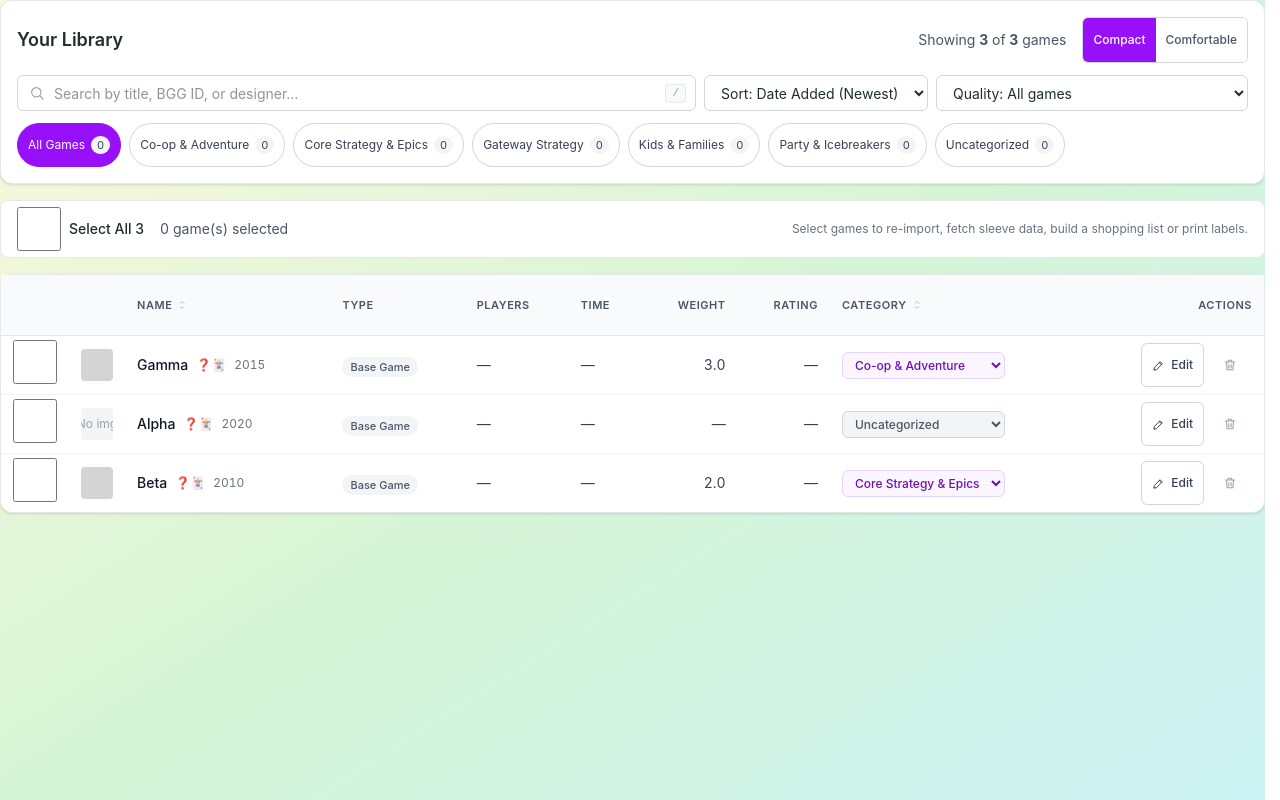
Scenario: ManageLibraryTab extras › select all / clear selection
Click the checkbox labelled "Select All 3" at (39, 229), box [17,207,61,251]
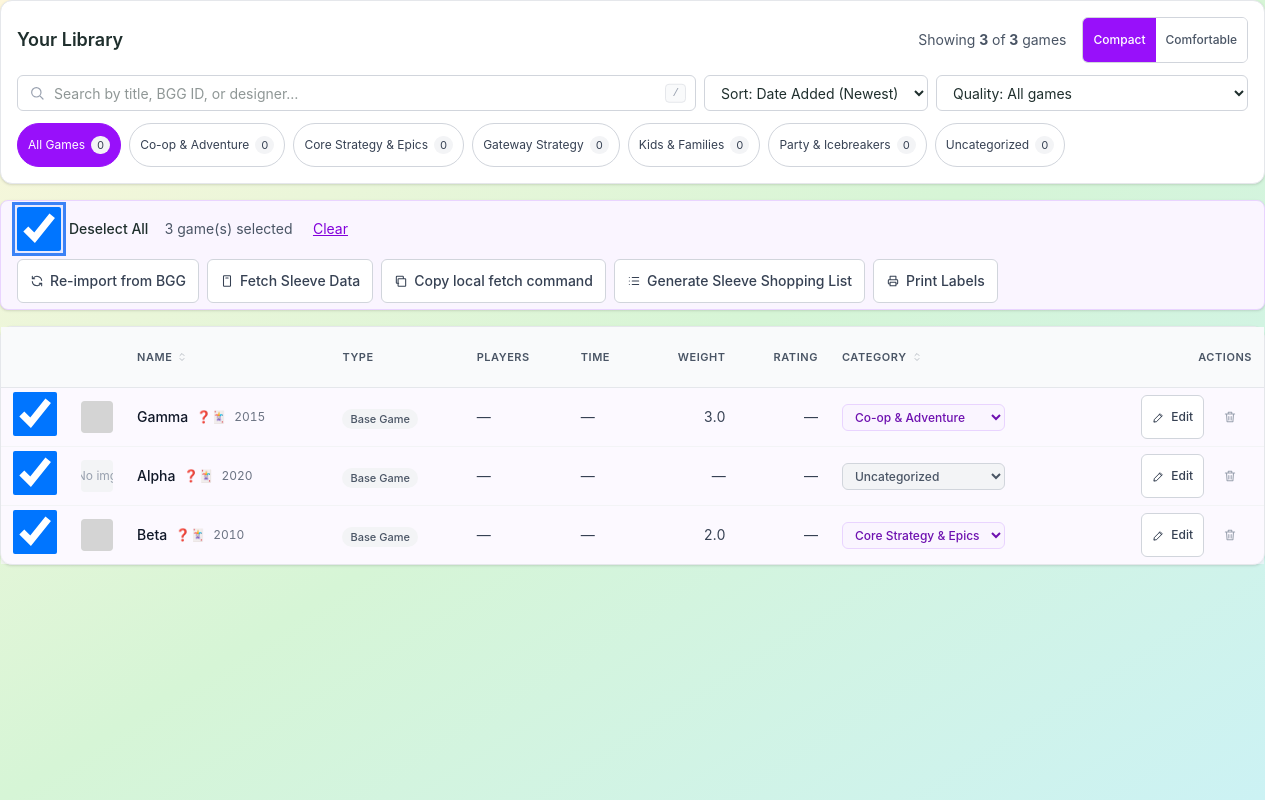
Expected: the text "3 game(s) selected" is shown, [164,219,292,239]
Click the button "Clear" at (330, 229), box [308,207,352,251]
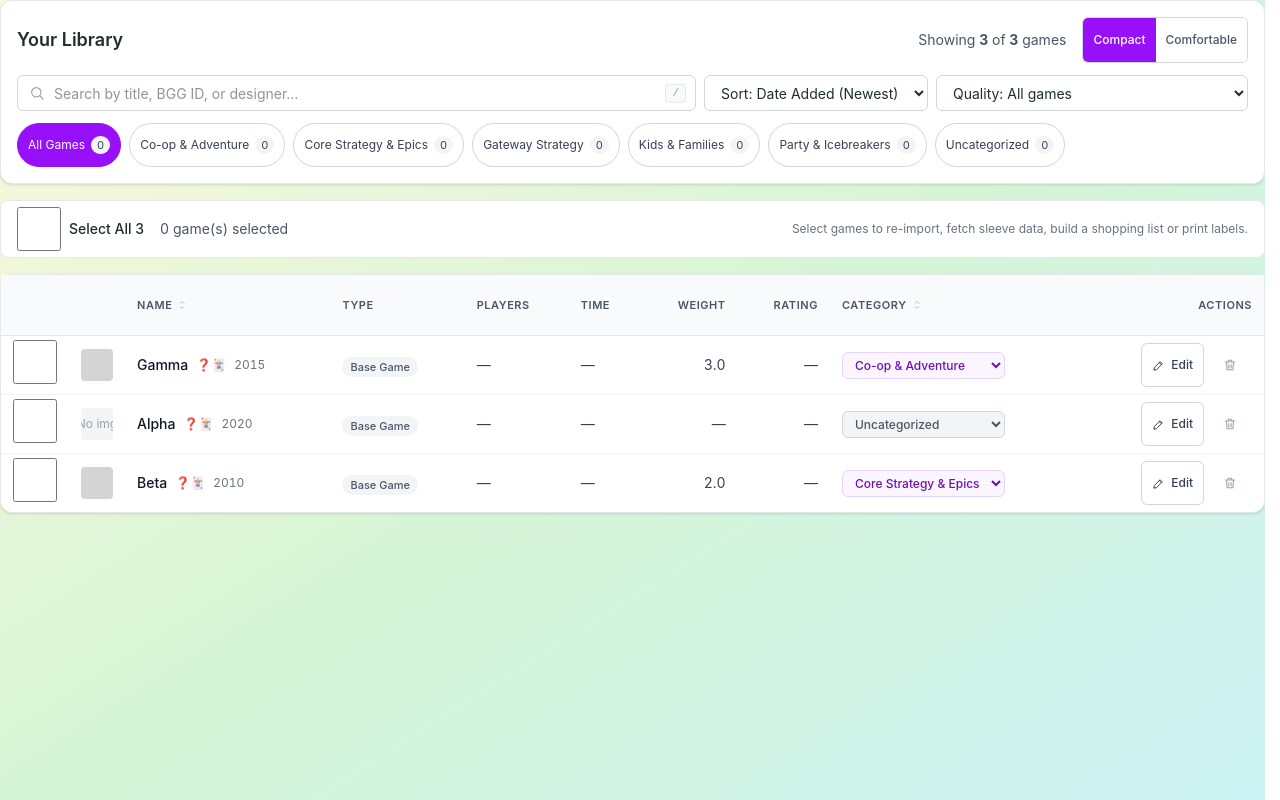
Expected: the text "0 game(s) selected" is shown, [160,219,288,239]
